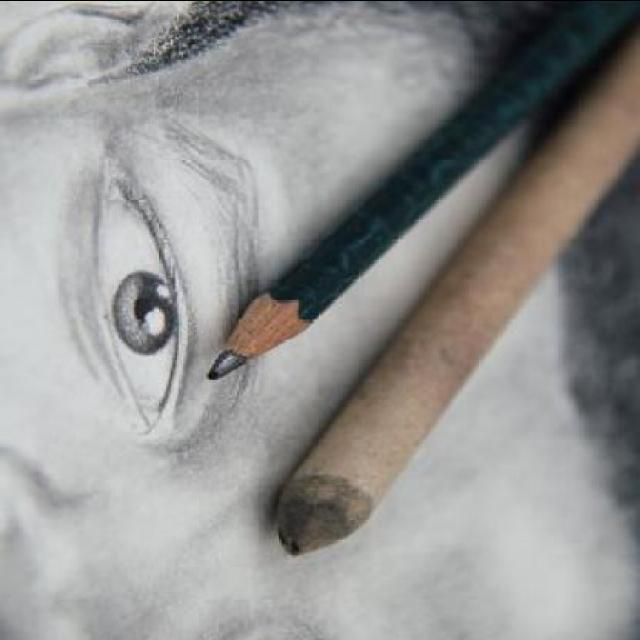Pencil: (192, 272, 340, 390)
